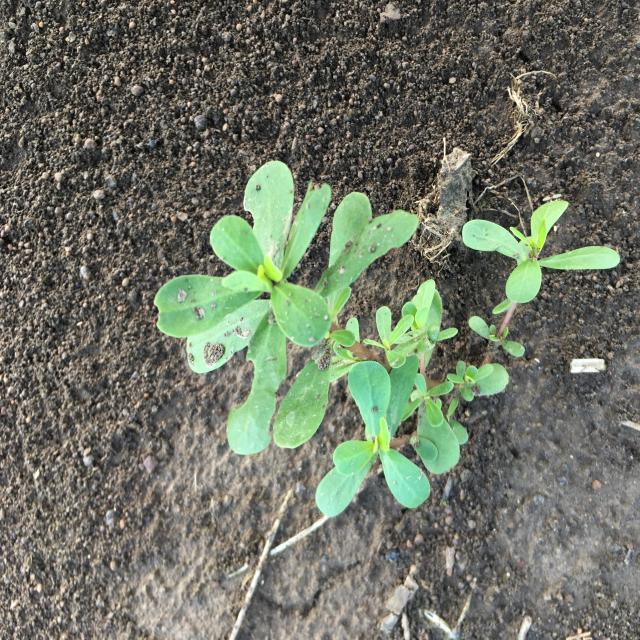Purslane: (154, 161, 620, 518)
